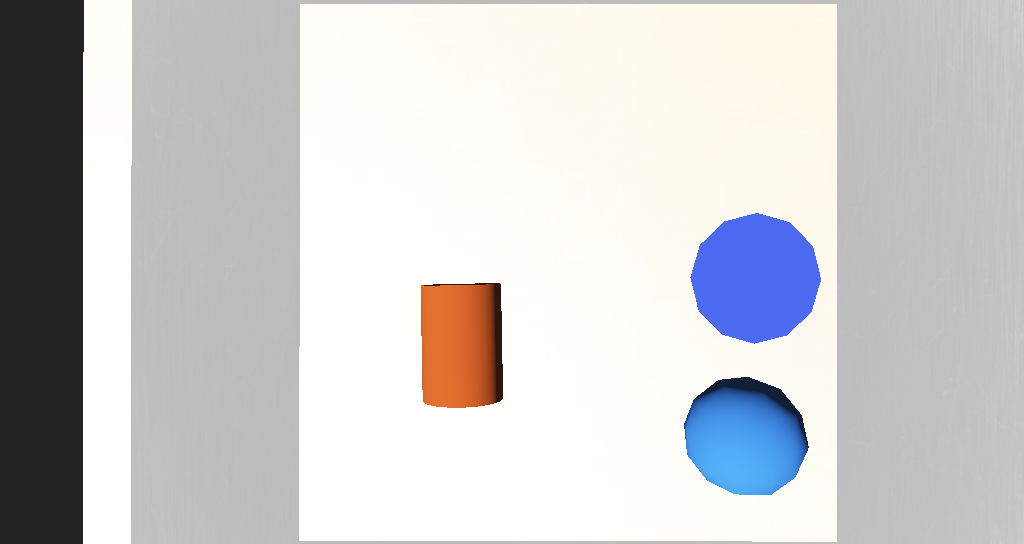cone: (418, 272, 472, 320)
cylinder: (559, 251, 627, 293)
sphere: (569, 305, 630, 353)
